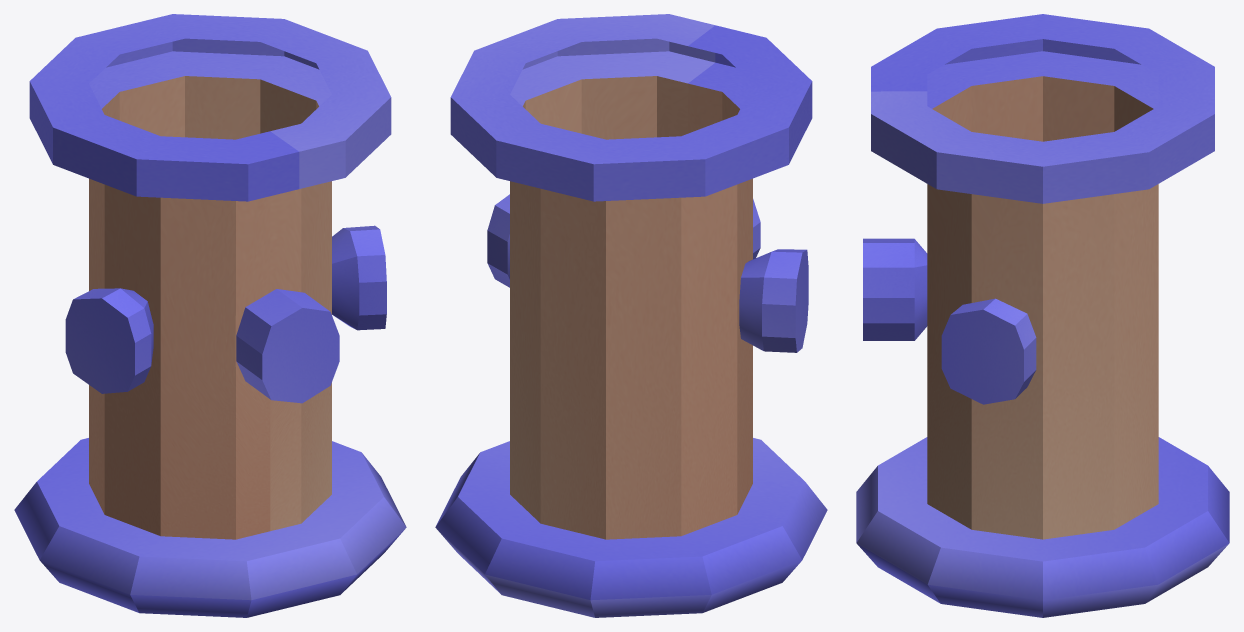
File: BrokenFireHydrant.fbx
The picture shows the model from 3 angles, left to right: view 1: azimuth 30°, elevation 25°; view 2: azimuth 150°, elevation 25°; view 3: azimuth 270°, elevation 25°; orthographic projection.
Visible parts, largest first — view 1: pCylinder2; view 2: pCylinder2; view 3: pCylinder2.
Boxes of the visible parts, x1,y1,x2,y2 form: pCylinder2: (14, 14, 406, 617); pCylinder2: (435, 14, 827, 617); pCylinder2: (856, 14, 1229, 617).
Bounding box in the file's own units: 65.46 × 83.59 × 62.26.
